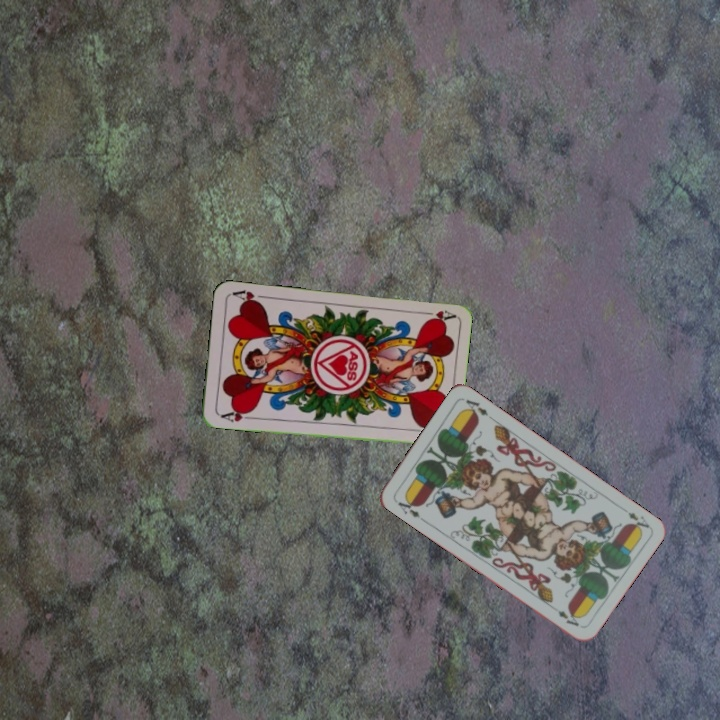EA: (394, 493, 423, 521), (624, 508, 652, 534)
HA: (216, 405, 256, 425), (416, 306, 456, 325)
